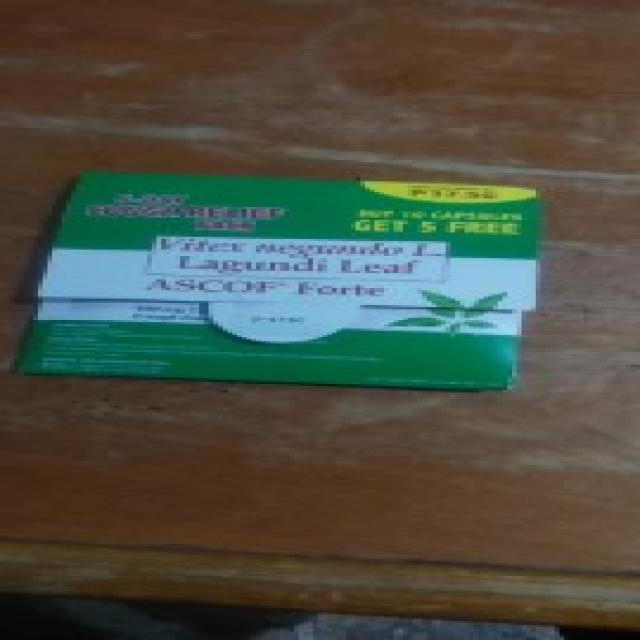Cacat: (54, 181, 545, 389)
